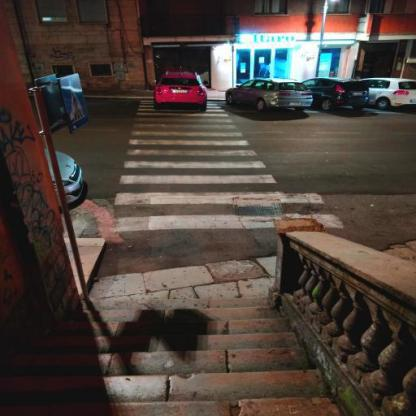crosswalk: (117, 160, 284, 188), (129, 124, 247, 140)
